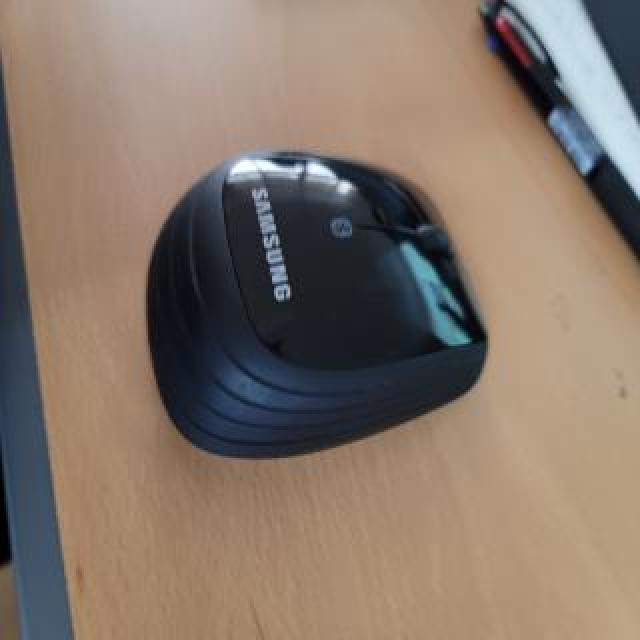mouse: (129, 136, 510, 469)
